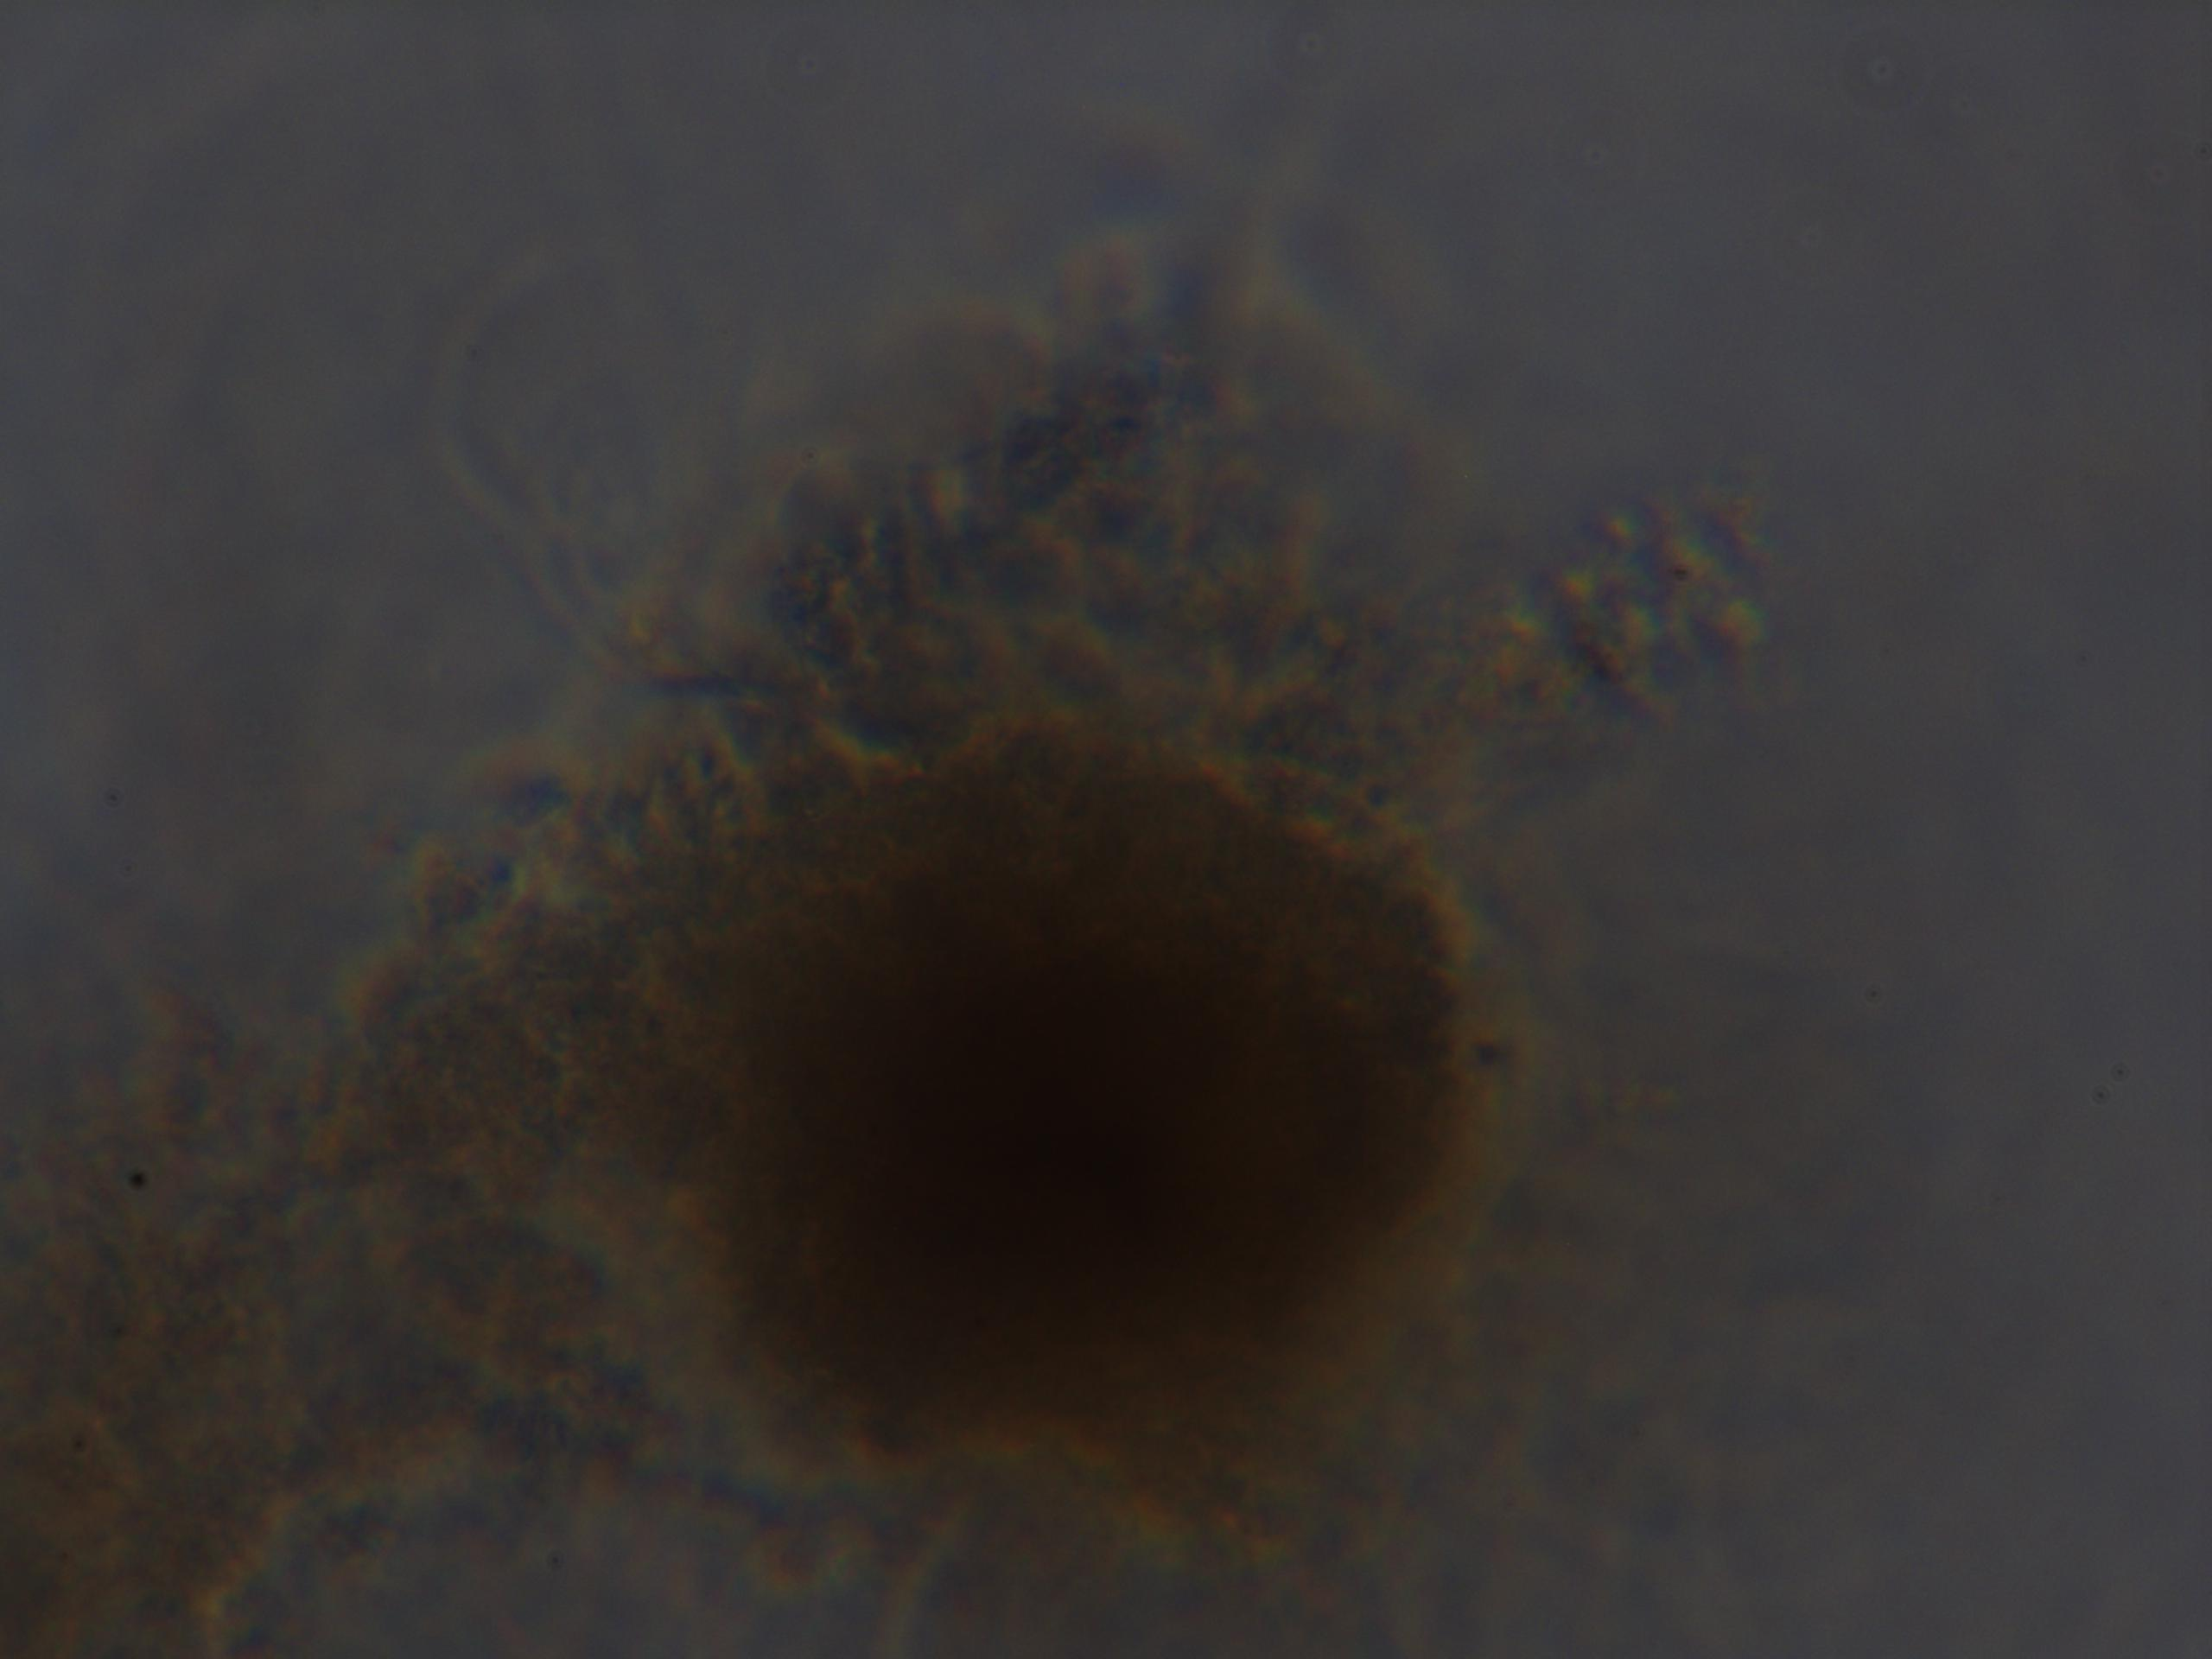spherical_floc: (618, 713, 1484, 1495)
